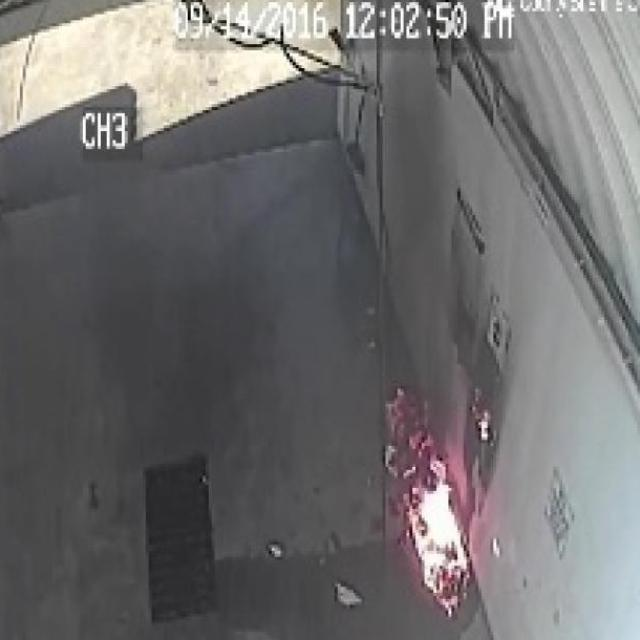smoke: (403, 447, 478, 618)
